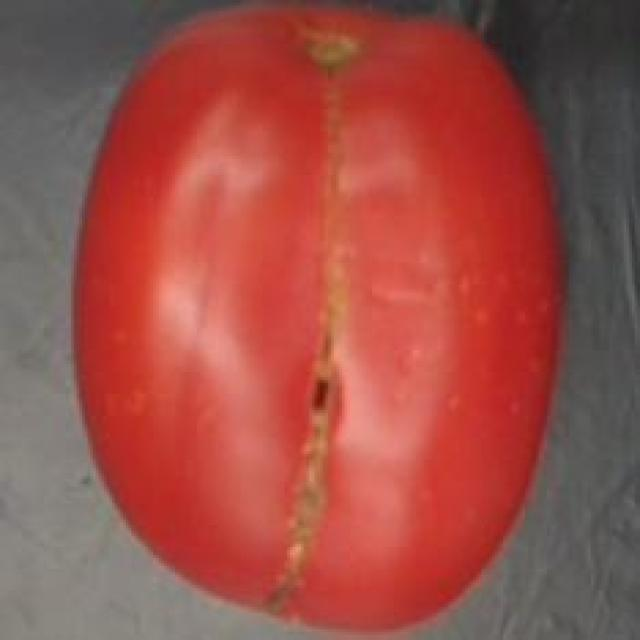overripe tomato: (68, 2, 574, 640)
